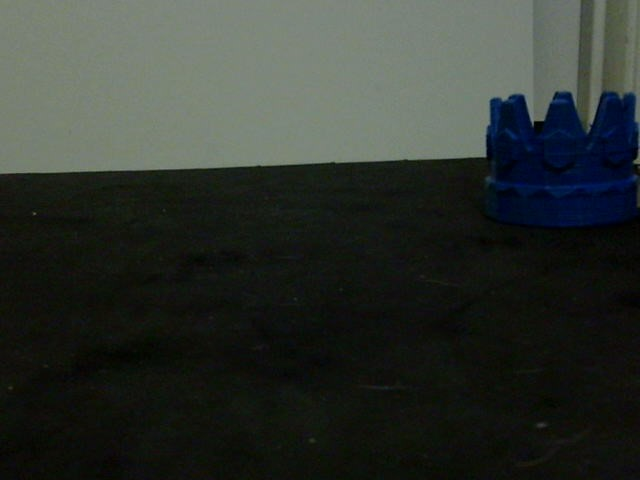crown: (479, 90, 640, 228)
